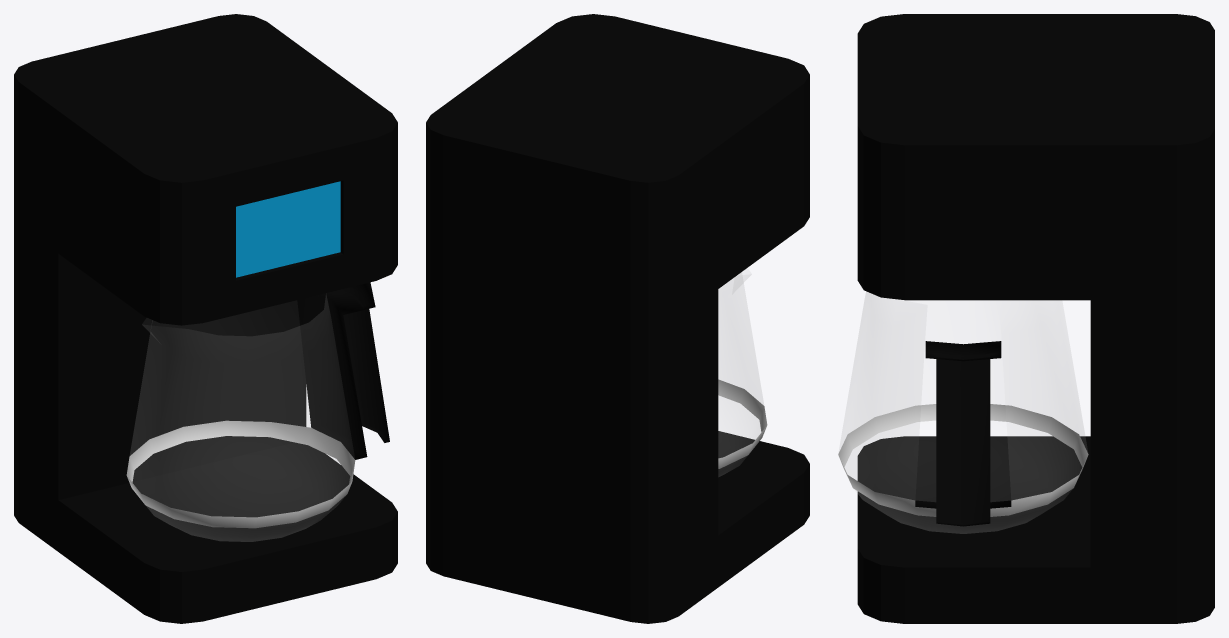
3 renders of one model, left to right at view 1: azimuth 30°, elevation 25°; view 2: azimuth 150°, elevation 25°; view 3: azimuth 270°, elevation 25°, orthographic. The views are drawn at different scales.
Visible parts, largest first — view 1: K-94; view 2: K-94; view 3: K-94.
Part boxes in pixels (x1=…): K-94: x1=14, y1=14, x2=397, y2=623; K-94: x1=426, y1=14, x2=809, y2=623; K-94: x1=838, y1=14, x2=1214, y2=623.
Size of the model in its own units: 21.46 by 34 by 24.25.
